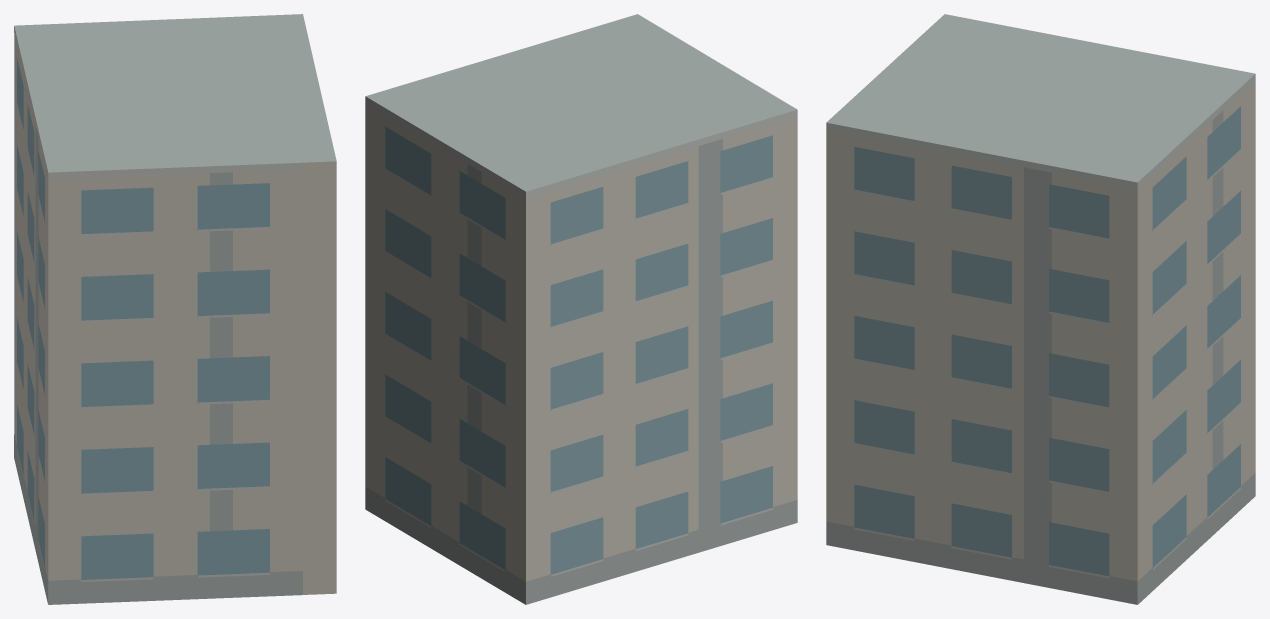
File: survey-upis-32809210.glb
The picture shows the model from 3 angles, left to right: view 1: azimuth 30°, elevation 25°; view 2: azimuth 150°, elevation 25°; view 3: azimuth 270°, elevation 25°; orthographic projection. The views are drawn at different scales.
Visible parts, largest first — view 1: survey-upis-32809210.tmp; view 2: survey-upis-32809210.tmp; view 3: survey-upis-32809210.tmp.
Boxes of the visible parts, x1=… form: survey-upis-32809210.tmp: x1=14, y1=14, x2=336, y2=604; survey-upis-32809210.tmp: x1=365, y1=14, x2=797, y2=604; survey-upis-32809210.tmp: x1=826, y1=14, x2=1255, y2=604.
Size of the model in its own units: 13.06 by 15.25 by 14.06.
